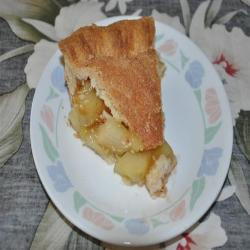apple_pie: (48, 16, 189, 201)
